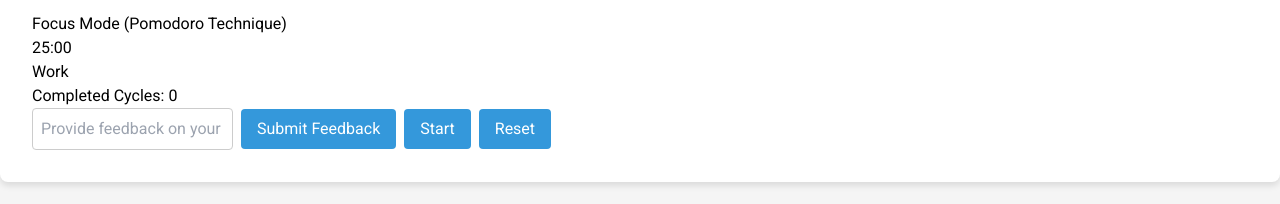
FocusMode › processes feedback and adjusts durations
In the field with placeholder "Provide feedback on your focus session": {"x": 132, "y": 129} [32,108,233,150], type "Work duration too short"
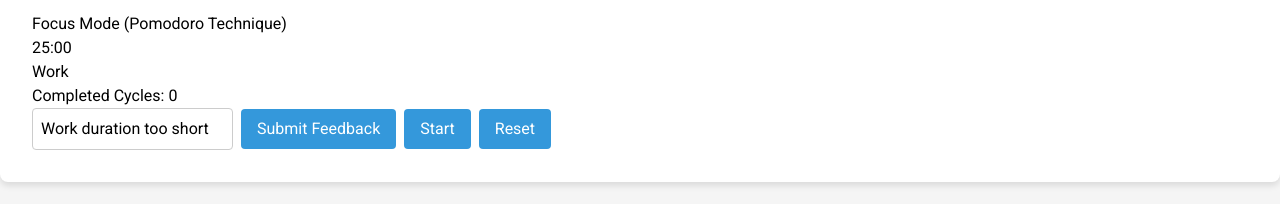
Click the button "Submit Feedback": {"x": 319, "y": 129} [241,109,396,149]
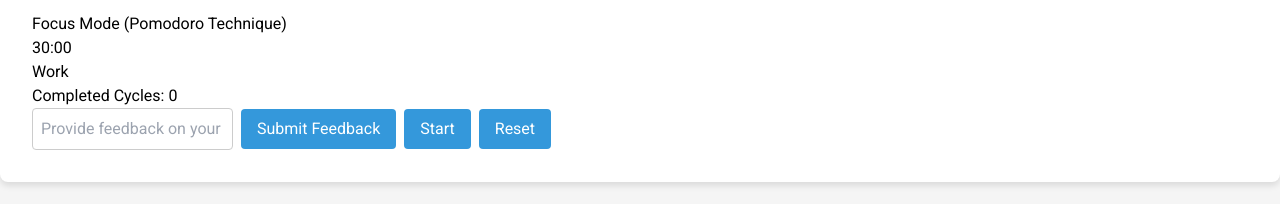
expect the text "30:00" is shown: met, box [32,38,72,57]
